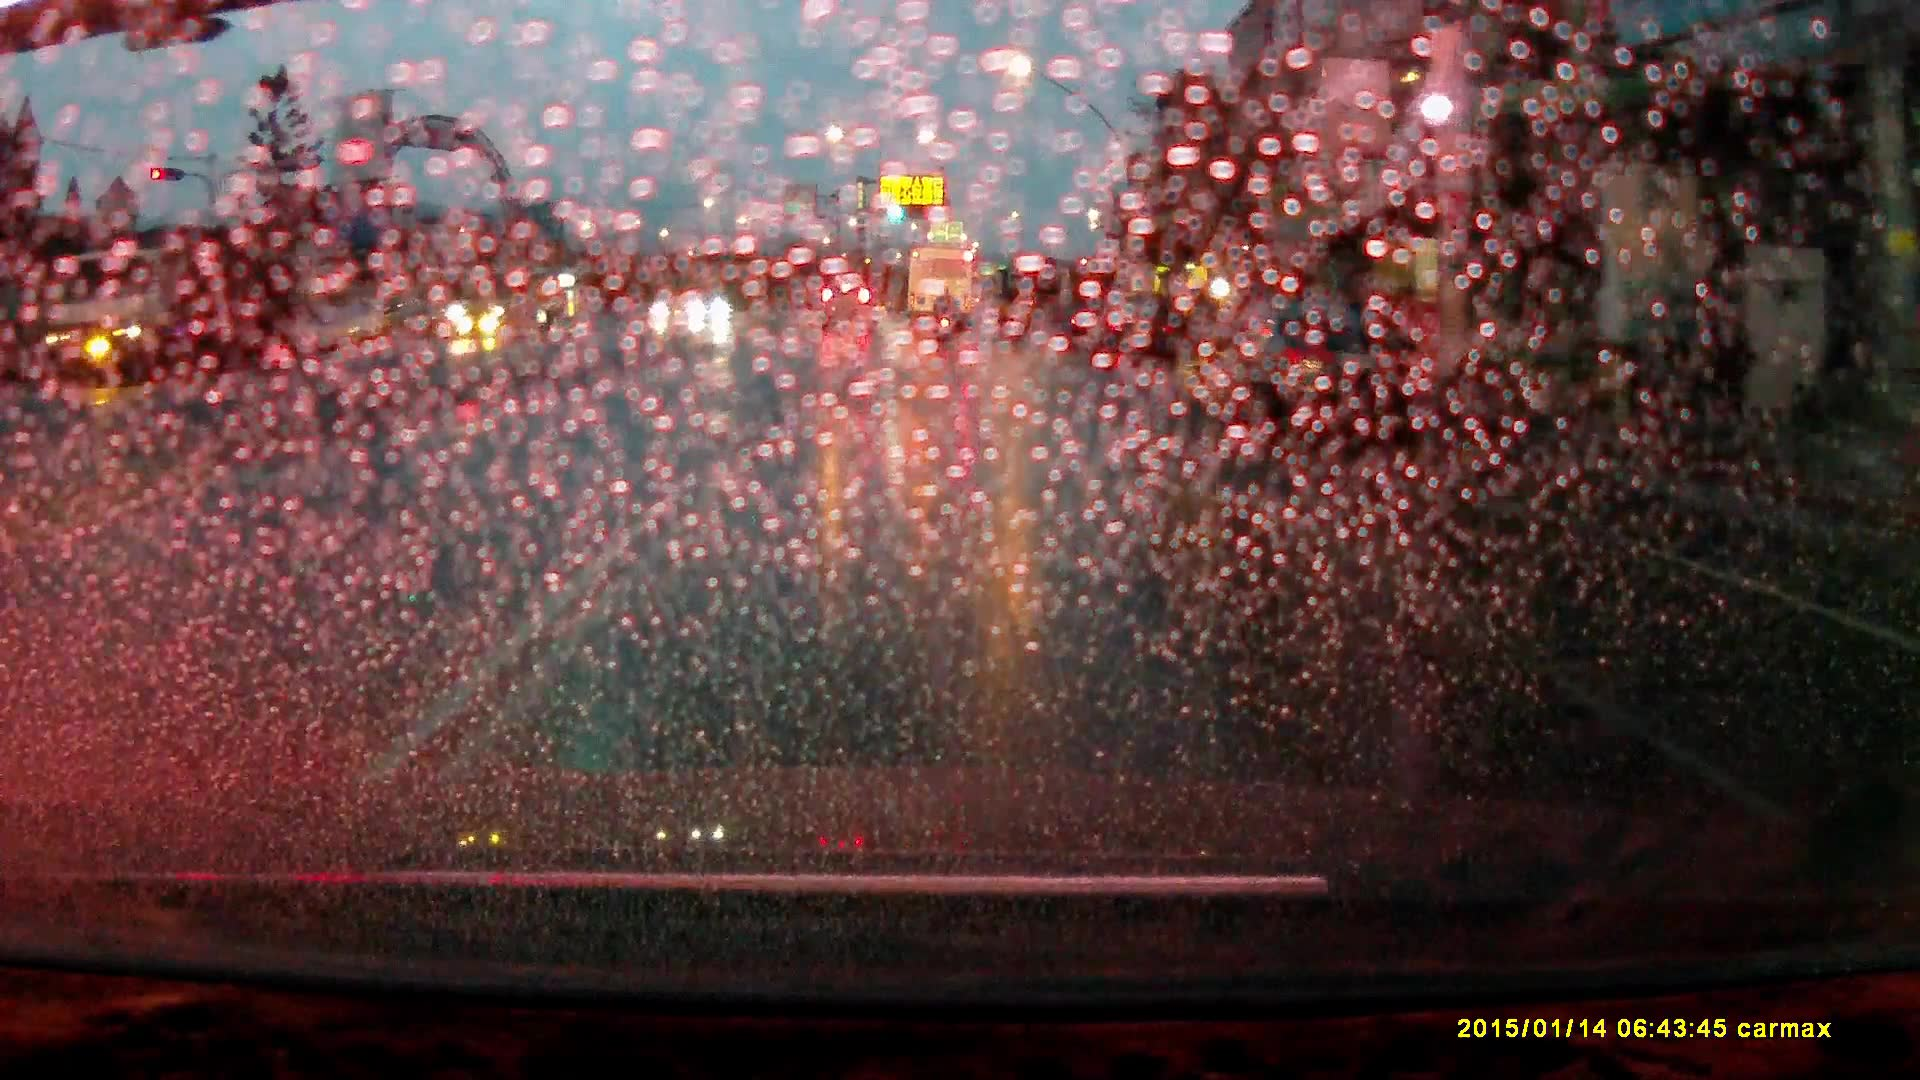rider: (934, 289, 960, 351)
vehicle: (37, 246, 258, 387), (1228, 313, 1432, 441), (449, 264, 563, 341), (909, 241, 978, 330), (1090, 306, 1178, 369), (819, 286, 881, 335), (685, 293, 733, 324)
